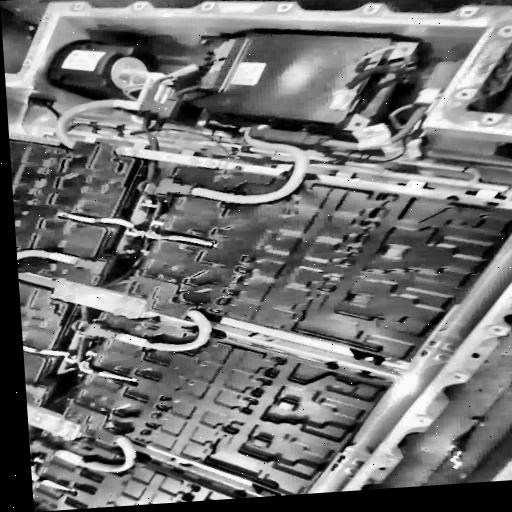high_volt_cable: (148, 102, 434, 209), (46, 94, 186, 151), (84, 300, 224, 354), (35, 426, 147, 476)
low_volt_cable: (23, 110, 229, 384)
nut: (113, 144, 129, 155), (186, 155, 203, 164), (117, 295, 132, 304), (127, 147, 142, 156), (61, 431, 76, 440), (53, 278, 67, 287), (202, 158, 216, 167), (48, 290, 61, 299), (124, 311, 138, 319), (50, 427, 62, 436), (112, 307, 125, 315), (61, 294, 74, 302), (66, 283, 78, 291), (56, 419, 67, 427), (130, 299, 142, 306), (65, 424, 75, 431)
